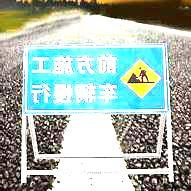sign: (24, 47, 167, 111)
